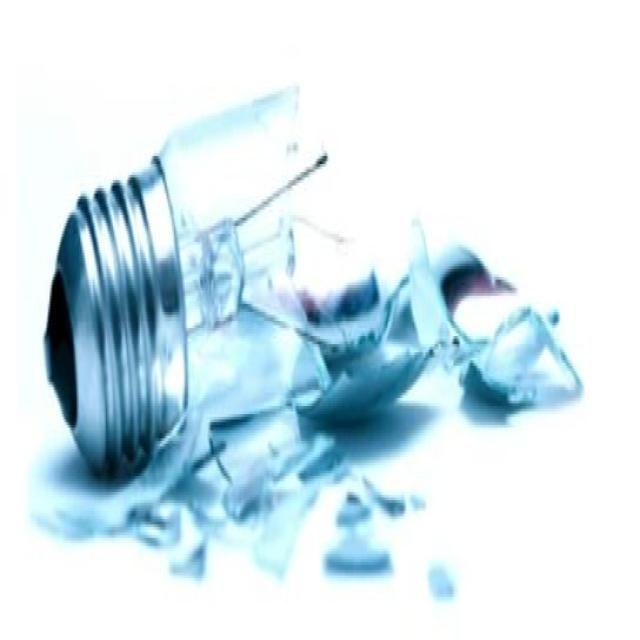electronic: (42, 78, 330, 481)
